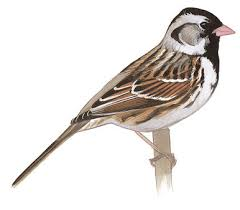hsparrow: (6, 5, 238, 189)
